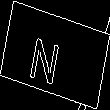N_N: (37, 26, 73, 84)
